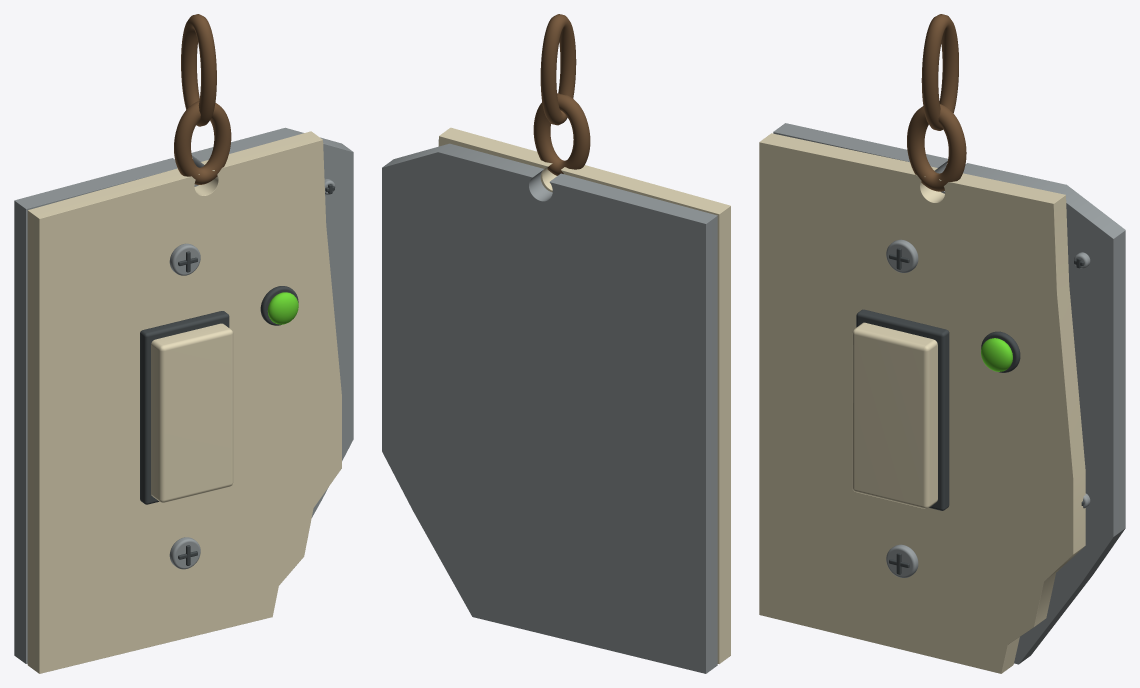
File: BeltCharm(Sword).fbx
3 views of the same model, side by side, from view 1: azimuth 30°, elevation 25°; view 2: azimuth 150°, elevation 25°; view 3: azimuth 330°, elevation 25° (orthographic). The views are drawn at different scales.
Parts seen in each view (by area): view 1: Chipped ivory switch plate, Exposed metal backing, Ivory rocker, Upper hanging link, Switch bezel, Lower hanging link, Green indicator lens, Screw head.001, Screw head; view 2: Exposed metal backing, Chipped ivory switch plate, Upper hanging link, Lower hanging link; view 3: Chipped ivory switch plate, Exposed metal backing, Ivory rocker, Switch bezel, Upper hanging link, Lower hanging link, Green indicator lens, Screw head, Screw head.001.
Boxes of the visible parts, x1,y1,x2,y2 form: Chipped ivory switch plate: (27,131,341,673); Exposed metal backing: (14,127,353,663); Ivory rocker: (151,323,233,502); Upper hanging link: (181,14,216,126); Switch bezel: (140,311,229,504); Lower hanging link: (174,100,231,184); Green indicator lens: (267,292,298,324); Screw head.001: (169,537,200,569); Screw head: (169,243,200,275); Exposed metal backing: (382,143,717,673); Chipped ivory switch plate: (438,127,730,663); Upper hanging link: (540,14,576,125); Lower hanging link: (533,93,590,175); Chipped ivory switch plate: (759,133,1085,673); Exposed metal backing: (773,123,1125,664); Ivory rocker: (852,322,937,508); Switch bezel: (856,309,949,510); Upper hanging link: (921,14,958,130); Lower hanging link: (907,104,966,191); Green indicator lens: (981,338,1012,371); Screw head: (886,239,918,272); Screw head.001: (886,544,918,577).
Size of the model in its own units: 104 by 186 by 23.1.
